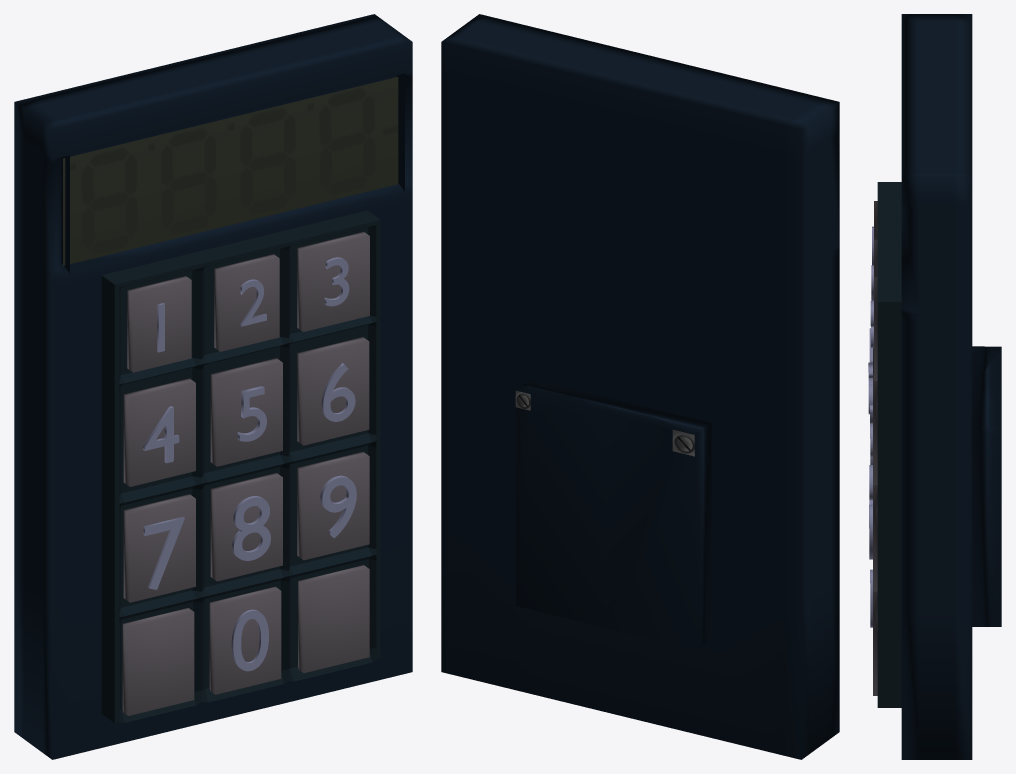
The model's file is low_poly_panel_code__keypad.glb.
3 renders of one model, left to right at view 1: azimuth 30°, elevation 25°; view 2: azimuth 150°, elevation 25°; view 3: azimuth 270°, elevation 25°, orthographic. The views are drawn at different scales.
Visible parts, largest first — view 1: Cube.013_25, Cube_0, Cube.011_13, Cube.010_12, Cube.008_10, Cube.004_6, Cube.009_11, Cube.003_5, Cube.002_4, Cube.012_14, Cube.006_8, Cube.001_3 (+10 smaller); view 2: Cube.013_25; view 3: Cube.013_25, Cube_0, Cube.002_4, Cube.009_11, Cube.010_12, Cube.006_8.
Boxes of the visible parts, x1,y1,x2,y2 form: Cube.013_25: [14, 14, 412, 759]; Cube_0: [101, 210, 380, 723]; Cube.011_13: [122, 608, 194, 715]; Cube.010_12: [298, 565, 369, 672]; Cube.008_10: [210, 358, 282, 466]; Cube.004_6: [123, 378, 195, 486]; Cube.009_11: [297, 337, 369, 445]; Cube.003_5: [123, 494, 195, 602]; Cube.002_4: [297, 451, 369, 560]; Cube.012_14: [209, 586, 281, 694]; Cube.006_8: [297, 231, 369, 331]; Cube.001_3: [210, 473, 282, 581]; Cube.013_25: [441, 14, 839, 759]; Cube.013_25: [901, 14, 1001, 759]; Cube_0: [877, 182, 901, 707]; Cube.002_4: [873, 485, 877, 591]; Cube.009_11: [873, 374, 877, 485]; Cube.010_12: [873, 591, 877, 695]; Cube.006_8: [874, 277, 877, 380].
Bounding box in the file's own units: 10.93 × 18.28 × 3.78.
Materials: 6 (2 with a texture image).
